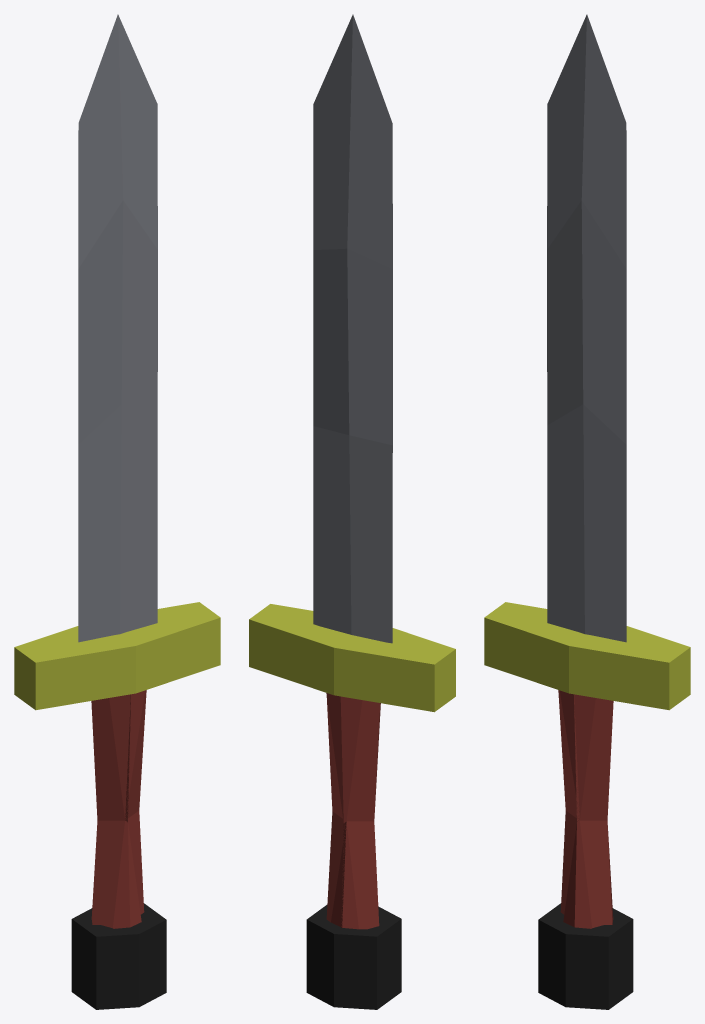
Rendered from SwordAttack2.fbx.
3 views of the same model, side by side, from view 1: azimuth 30°, elevation 25°; view 2: azimuth 150°, elevation 25°; view 3: azimuth 330°, elevation 25° (orthographic).
Parts seen in each view (by area): view 1: Cube.002; view 2: Cube.002; view 3: Cube.002.
Boxes of the visible parts, x1,y1,x2,y2 form: Cube.002: [14, 14, 220, 1009]; Cube.002: [249, 14, 455, 1009]; Cube.002: [484, 14, 690, 1009].
Size of the model in its own units: 200 by 1007 by 75.42.
